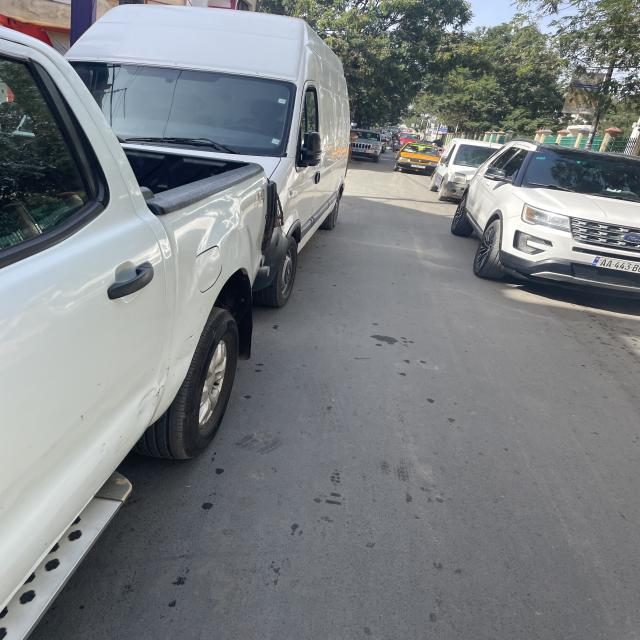fourgon: (59, 5, 355, 306)
moto: (389, 137, 404, 157)
particulier: (1, 25, 282, 640), (450, 139, 640, 301), (433, 139, 513, 205), (353, 127, 386, 167)
taxi: (395, 142, 443, 179)
